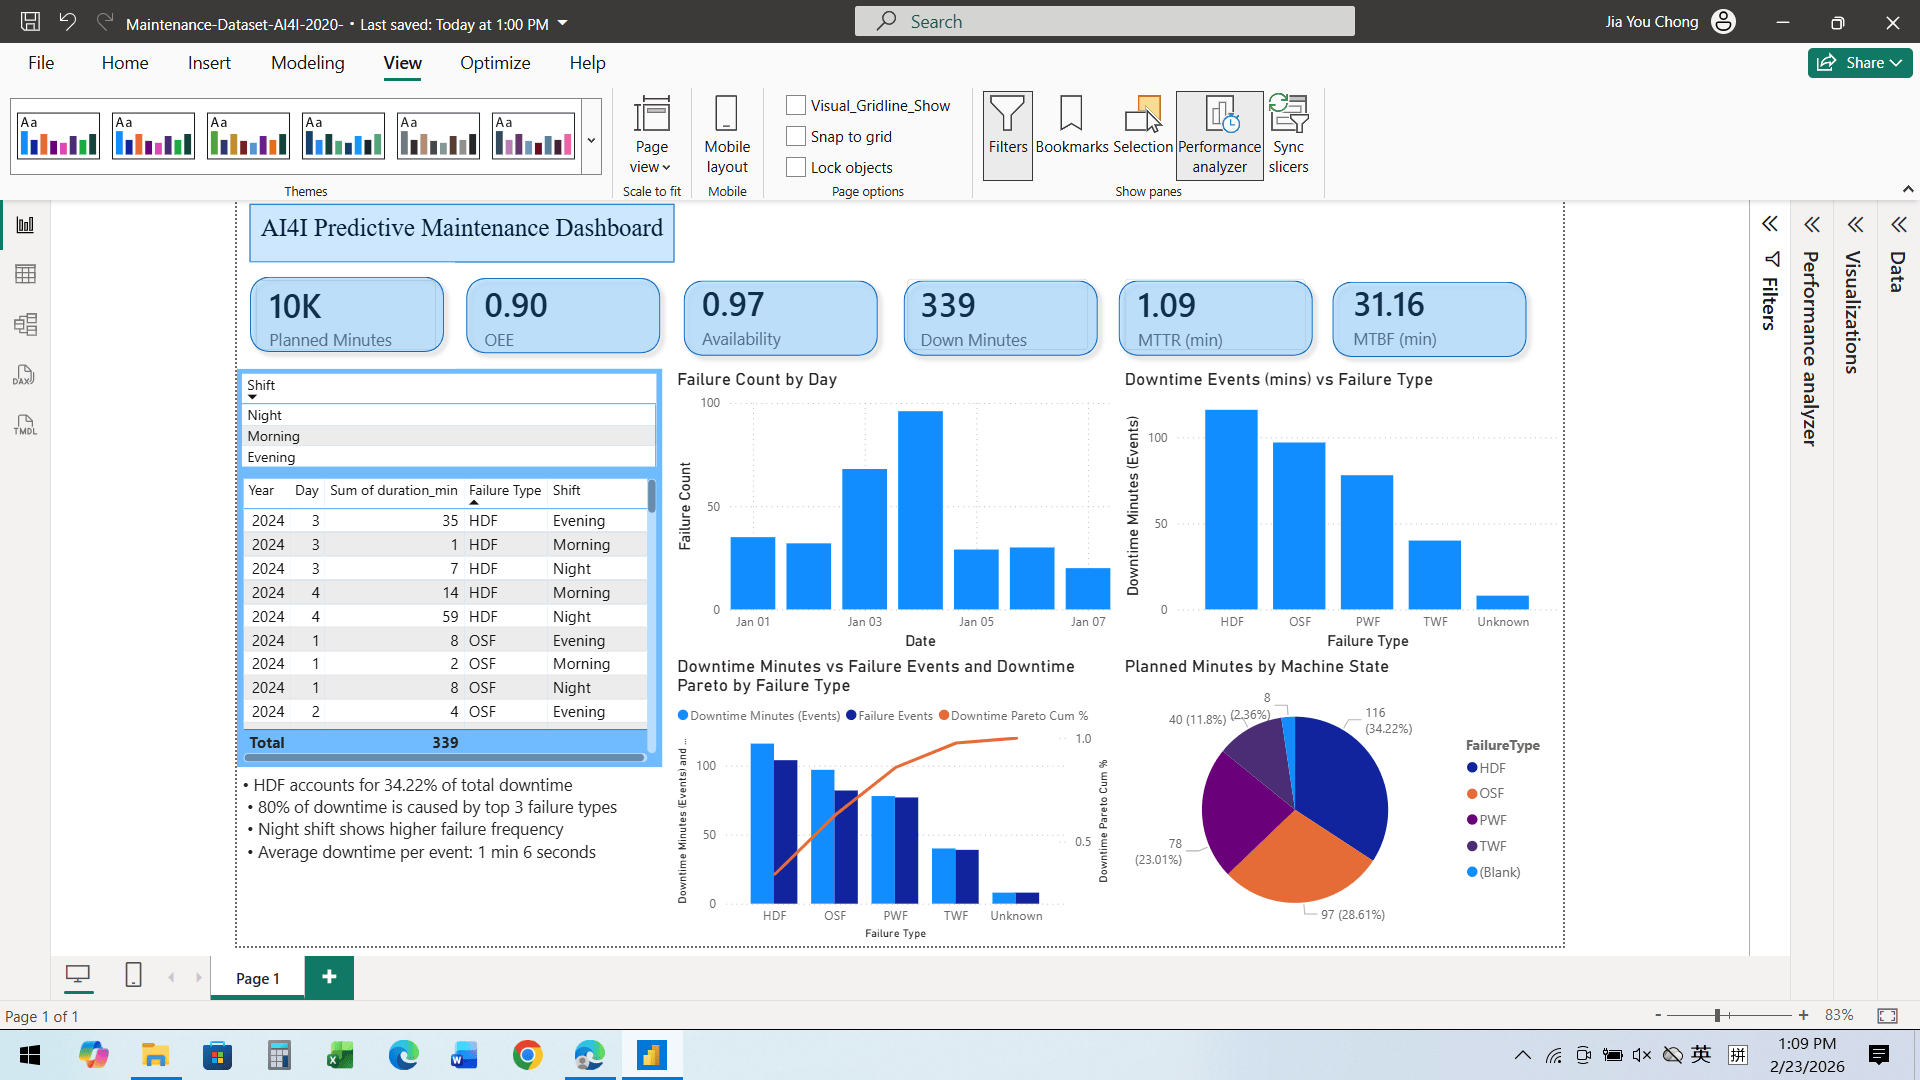

The dashboard page shown, as its layout file describes it:
{"tool":"powerbi","page":{"name":"Page 1","canvas":[1280,720],"ordinal":0},"visuals":[{"type":"cardVisual","fields":{"Data":["fact_downtime_event.Availability"]},"box":[419.8,58.9,209.9,103.8],"z":0},{"type":"cardVisual","fields":{"Data":["fact_minute.Down Minutes"]},"box":[629.8,58.9,209.9,103.8],"z":1000},{"type":"cardVisual","fields":{"Data":["fact_downtime_event.OEE"]},"box":[209.9,60.3,209.9,103],"z":2000},{"type":"pieChart","title":"Planned Minutes by Machine State","fields":{"Y":["fact_downtime_event.Downtime Minutes (Events)"],"Category":["DimFailureType.FailureType"]},"box":[851.7,439.5,428.3,280],"z":3000},{"type":"pivotTable","fields":{"Rows":["DimShift.Shift"]},"box":[0,162.9,410.2,101.3],"z":4000},{"type":"lineStackedColumnComboChart","title":"Downtime Events (mins) vs Failure Type","fields":{"Category":["fact_downtime_event.Failure Type"],"Y":["fact_downtime_event.Downtime Minutes (Events)"]},"box":[851.7,162.9,428.3,276.3],"z":5000},{"type":"lineClusteredColumnComboChart","title":"Downtime Minutes vs Failure Events and Downtime Pareto by Failure Type","fields":{"Y":["fact_downtime_event.Downtime Minutes (Events)","fact_downtime_event.Failure Events"],"Category":["fact_downtime_event.Failure Type"],"Y2":["fact_downtime_event.Downtime Pareto Cum %"]},"box":[419.8,439.5,428.3,280],"z":6000},{"type":"lineClusteredColumnComboChart","title":"Failure Count by Day","fields":{"Y":["DimDate.Failure Count"],"Category":["DimDate.Date.Variation.Date Hierarchy.Month"]},"box":[419.8,162.9,428.3,276.3],"z":7000},{"type":"tableEx","fields":{"Values":["fact_downtime_event.timestamp.Variation.Date Hierarchy.Year","fact_downtime_event.timestamp.Variation.Date Hierarchy.Day","Sum(fact_downtime_event.duration_min)","fact_downtime_event.Failure Type","fact_downtime_event.Shift"]},"box":[0,264.2,410.2,283.5],"z":8000},{"type":"cardVisual","fields":{"Data":["fact_downtime_event.MTTR (min)"]},"box":[839.7,58.9,209.9,103.8],"z":9000},{"type":"cardVisual","fields":{"Data":["fact_downtime_event.MTBF (min)"]},"box":[1048.4,59.1,208.7,103.8],"z":10000},{"type":"textbox","box":[7.2,8.4,419.8,41],"z":11000},{"type":"shape","box":[0,66.4,205.1,90.5],"z":12000},{"type":"shape","box":[212.3,66.4,205.1,90.5],"z":13000},{"type":"shape","box":[422.3,69,205.1,90.5],"z":14000},{"type":"shape","box":[634.6,69,205.1,90.5],"z":15000},{"type":"shape","box":[842.1,69,205.1,90.5],"z":16000},{"type":"shape","box":[1048.4,70.2,205.1,90.5],"z":17000},{"type":"shape","box":[12.1,3.6,410.2,56.7],"z":18000},{"type":"cardVisual","fields":{"Data":["fact_minute.Planned Minutes"]},"box":[1.2,60.3,208.7,102.5],"z":19000},{"type":"shape","box":[3.6,65.1,205.1,90.5],"z":20000},{"type":"textbox","box":[0,548,410,171],"z":21000}]}

Visuals, with their boxes on the page's 1280x720 design canvas (x1, y1, x2, y2). These are canvas units, not pixel positions in the 1920x1080 screenshot, which may show the page scaled, cropped or inside an application window:
cardVisual - fact_downtime_event.Availability: box(420, 59, 630, 163)
cardVisual - fact_minute.Down Minutes: box(630, 59, 840, 163)
cardVisual - fact_downtime_event.OEE: box(210, 60, 420, 163)
"Planned Minutes by Machine State" pieChart: box(852, 440, 1280, 720)
pivotTable - DimShift.Shift: box(0, 163, 410, 264)
"Downtime Events (mins) vs Failure Type" lineStackedColumnComboChart: box(852, 163, 1280, 439)
"Downtime Minutes vs Failure Events and Downtime Pareto by Failure Type" lineClusteredColumnComboChart: box(420, 440, 848, 720)
"Failure Count by Day" lineClusteredColumnComboChart: box(420, 163, 848, 439)
tableEx - fact_downtime_event.timestamp.Variation.Date Hierarchy.Year x fact_downtime_event.timestamp.Variation.Date Hierarchy.Day: box(0, 264, 410, 548)
cardVisual - fact_downtime_event.MTTR (min): box(840, 59, 1050, 163)
cardVisual - fact_downtime_event.MTBF (min): box(1048, 59, 1257, 163)
textbox: box(7, 8, 427, 49)
shape: box(0, 66, 205, 157)
shape: box(212, 66, 417, 157)
shape: box(422, 69, 627, 160)
shape: box(635, 69, 840, 160)
shape: box(842, 69, 1047, 160)
shape: box(1048, 70, 1254, 161)
shape: box(12, 4, 422, 60)
cardVisual - fact_minute.Planned Minutes: box(1, 60, 210, 163)
shape: box(4, 65, 209, 156)
textbox: box(0, 548, 410, 719)
